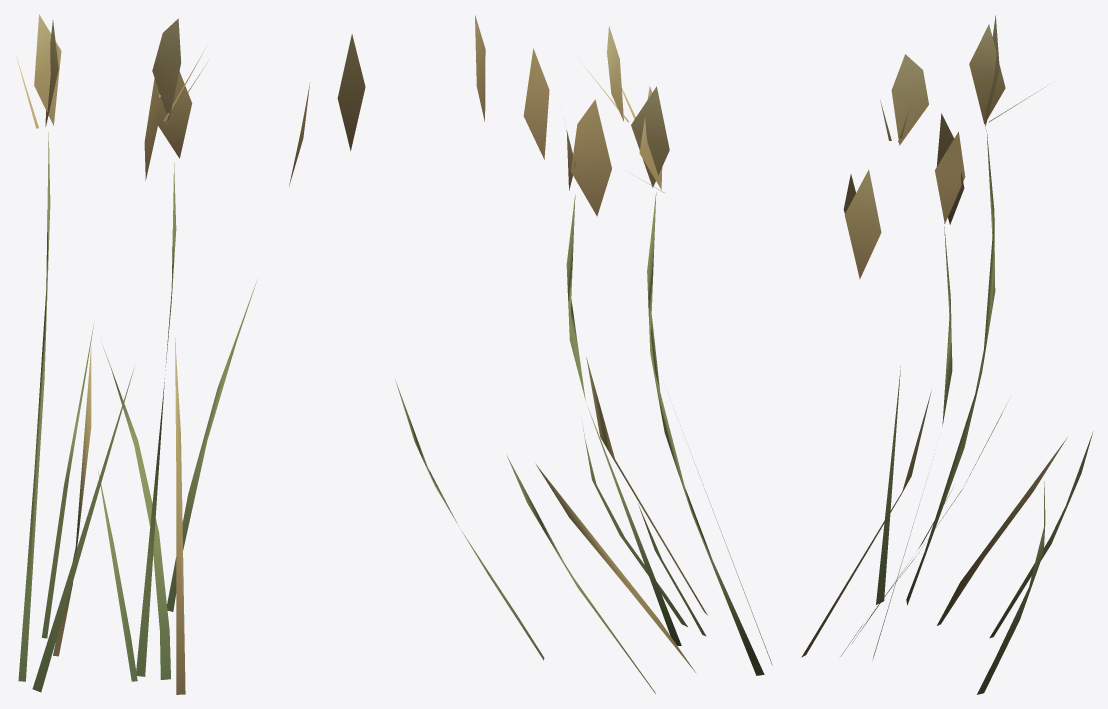
File: FeatherGrassClump_LOD2.glb
3 renders of one model, left to right at view 1: azimuth 30°, elevation 25°; view 2: azimuth 150°, elevation 25°; view 3: azimuth 270°, elevation 25°, orthographic. The views are drawn at different scales.
Parts seen in each view (by area): view 1: FeatherGrassClump_LOD2; view 2: FeatherGrassClump_LOD2; view 3: FeatherGrassClump_LOD2.
Part boxes in pixels (left/top/right/bottom): FeatherGrassClump_LOD2: left=15, top=14, right=365, bottom=694; FeatherGrassClump_LOD2: left=395, top=15, right=772, bottom=693; FeatherGrassClump_LOD2: left=801, top=15, right=1093, bottom=694.
Size of the model in its own units: 0.2838 by 0.5439 by 0.2279.
